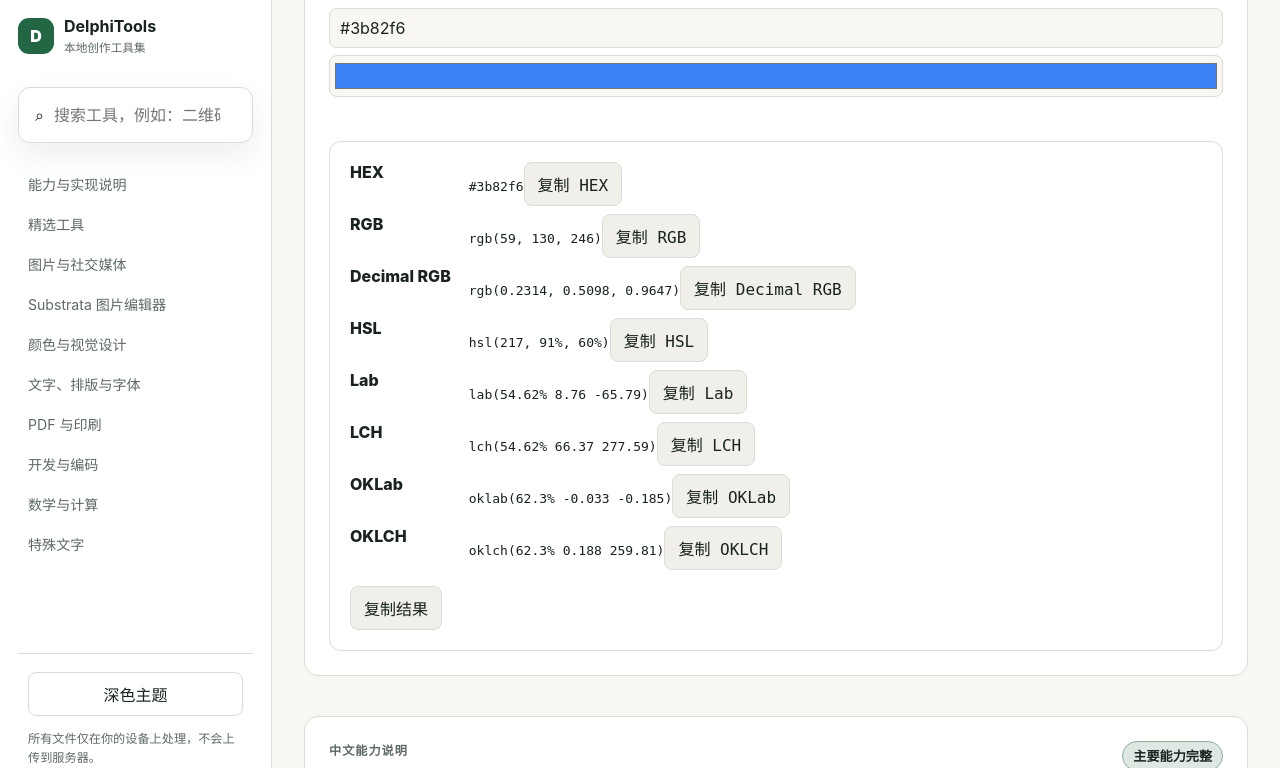
it: 颜色工具工作区 › 转换器逐项复制失败时显示中文错误
(page scrolled)
Click the button "复制 Lab": point(698, 392) [649,370,747,414]
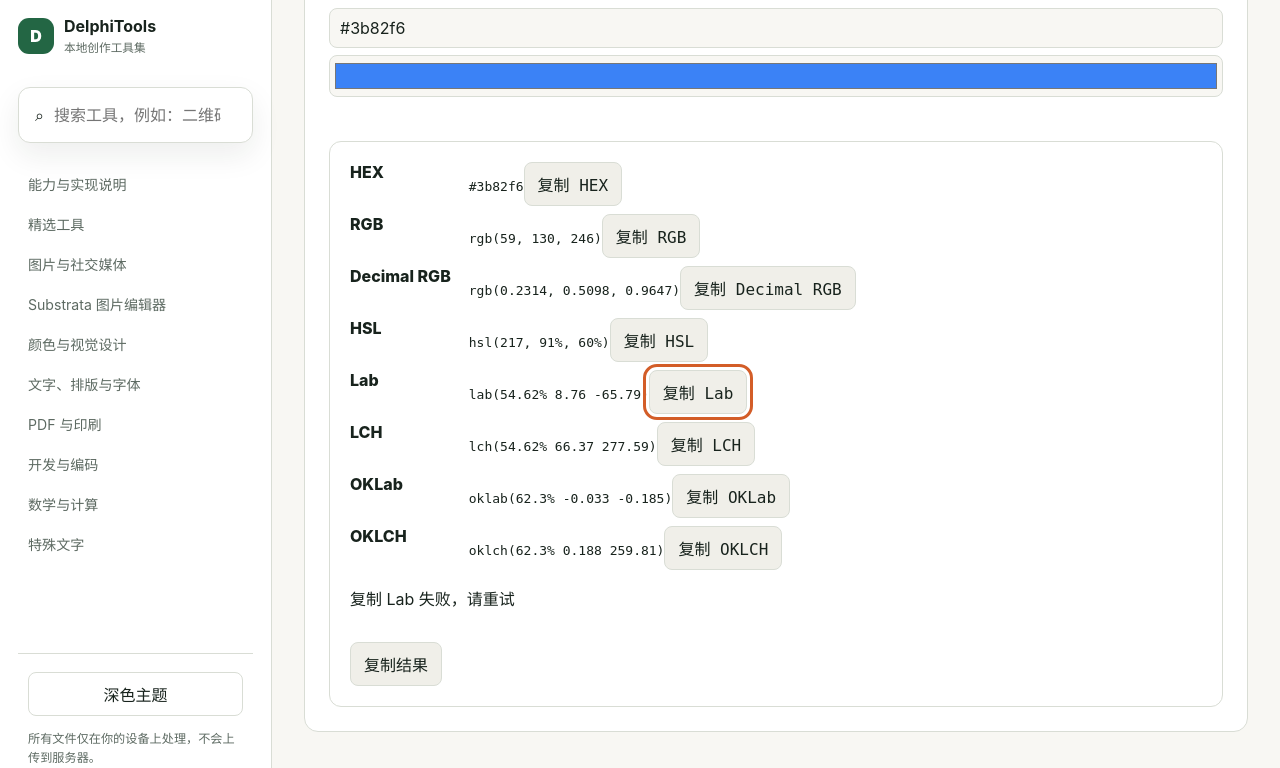
Now the message reads "复制 Lab 失败，请重试", box [350,589,515,609]
